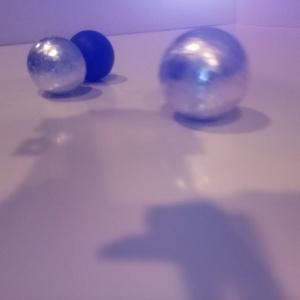alive_ball: (159, 27, 250, 122), (28, 36, 87, 95)
dead_ball: (66, 30, 115, 82)
